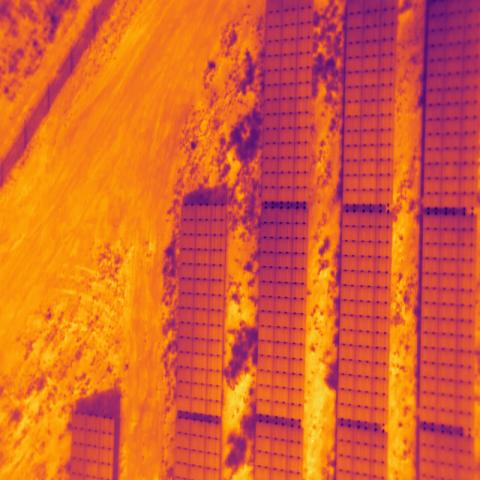fault: (343, 102, 362, 116)
